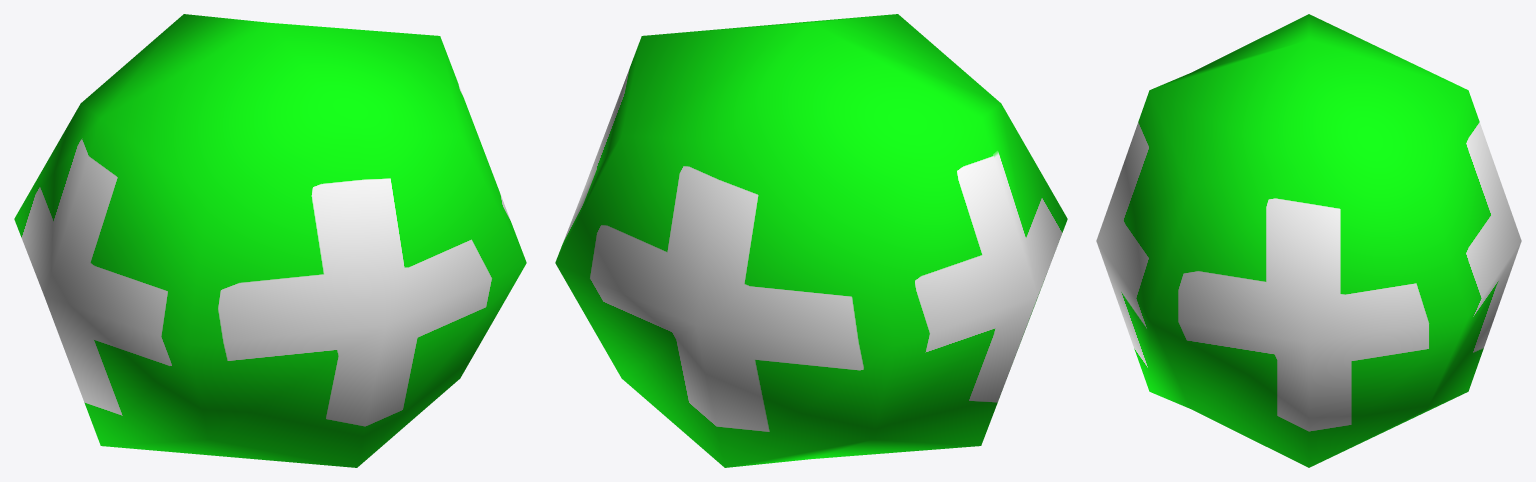
File: Healthpackagedone.fbx
3 views of the same model, side by side, from view 1: azimuth 30°, elevation 25°; view 2: azimuth 150°, elevation 25°; view 3: azimuth 270°, elevation 25° (orthographic). The views are drawn at different scales.
Parts seen in each view (by area): view 1: pCube3; view 2: pCube3; view 3: pCube3.
Part boxes in pixels (x1,y1,x2,y2): pCube3: (14, 14, 526, 467); pCube3: (555, 14, 1067, 467); pCube3: (1096, 14, 1521, 467).
Size of the model in its own units: 2.72 by 2.51 by 2.4.
Materials: 1 (1 with a texture image).
